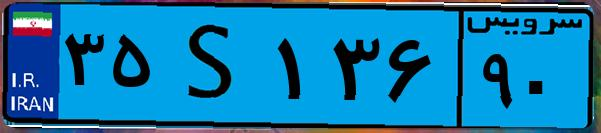0: (525, 38, 570, 115)
1: (270, 28, 330, 110)
3: (330, 28, 385, 110), (57, 26, 110, 100)
5: (110, 28, 158, 98)
6: (385, 28, 445, 110)
9: (475, 38, 525, 113)
S: (158, 12, 270, 120)
